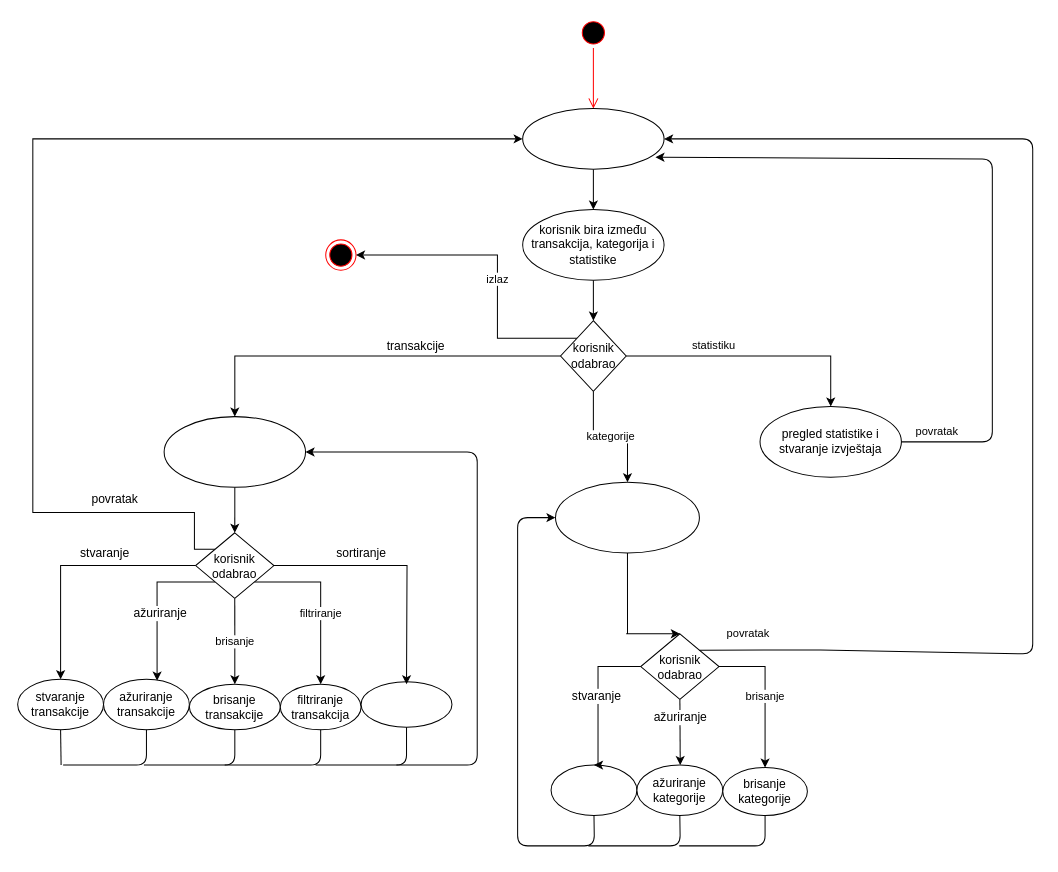
Some shapes in this 1058 by 872 pixel diagram are drawn without their labels. The centre of each missing label's shape, as x and y in pixels:
aplikacija prikazuje početni izbornik: pixel 593 138
aplikacija učita kategorije i prikaže stranicu za rad s njima: pixel 626 517
aplikacija učita transakcije i prikaže stranicu za rad s njima: pixel 234 451
sortiranje transakcija: pixel 406 704
stvaranje kategorije: pixel 593 790
